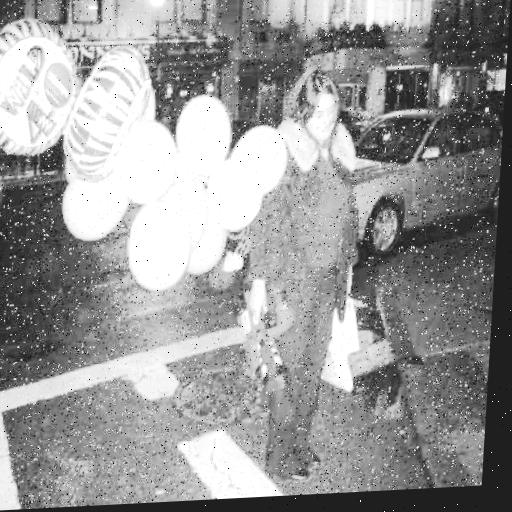balloon: (58, 34, 157, 184), (0, 14, 84, 163), (120, 187, 197, 293), (104, 109, 182, 212), (168, 84, 245, 183), (55, 164, 137, 242), (223, 119, 293, 200), (154, 172, 214, 262), (205, 154, 268, 235), (186, 210, 232, 278)
